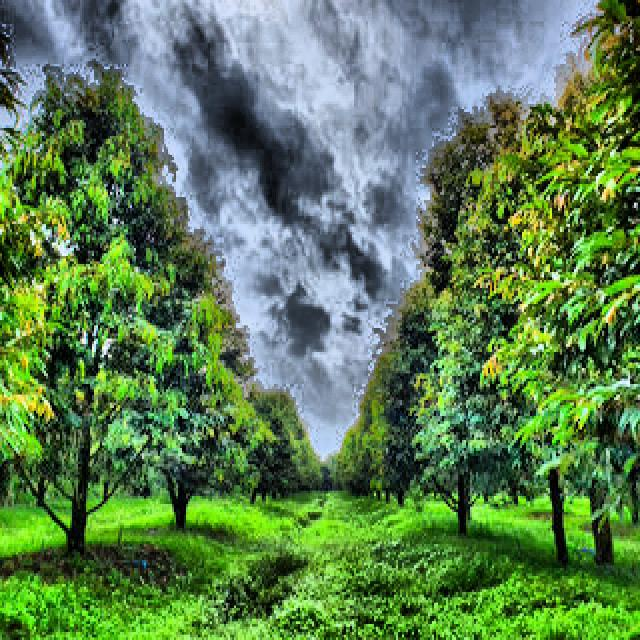arvore: (526, 373, 581, 586), (571, 365, 626, 576), (64, 312, 100, 590), (444, 396, 486, 550), (162, 409, 201, 542), (388, 433, 412, 527), (243, 452, 259, 516), (255, 458, 273, 509), (370, 459, 387, 512)
